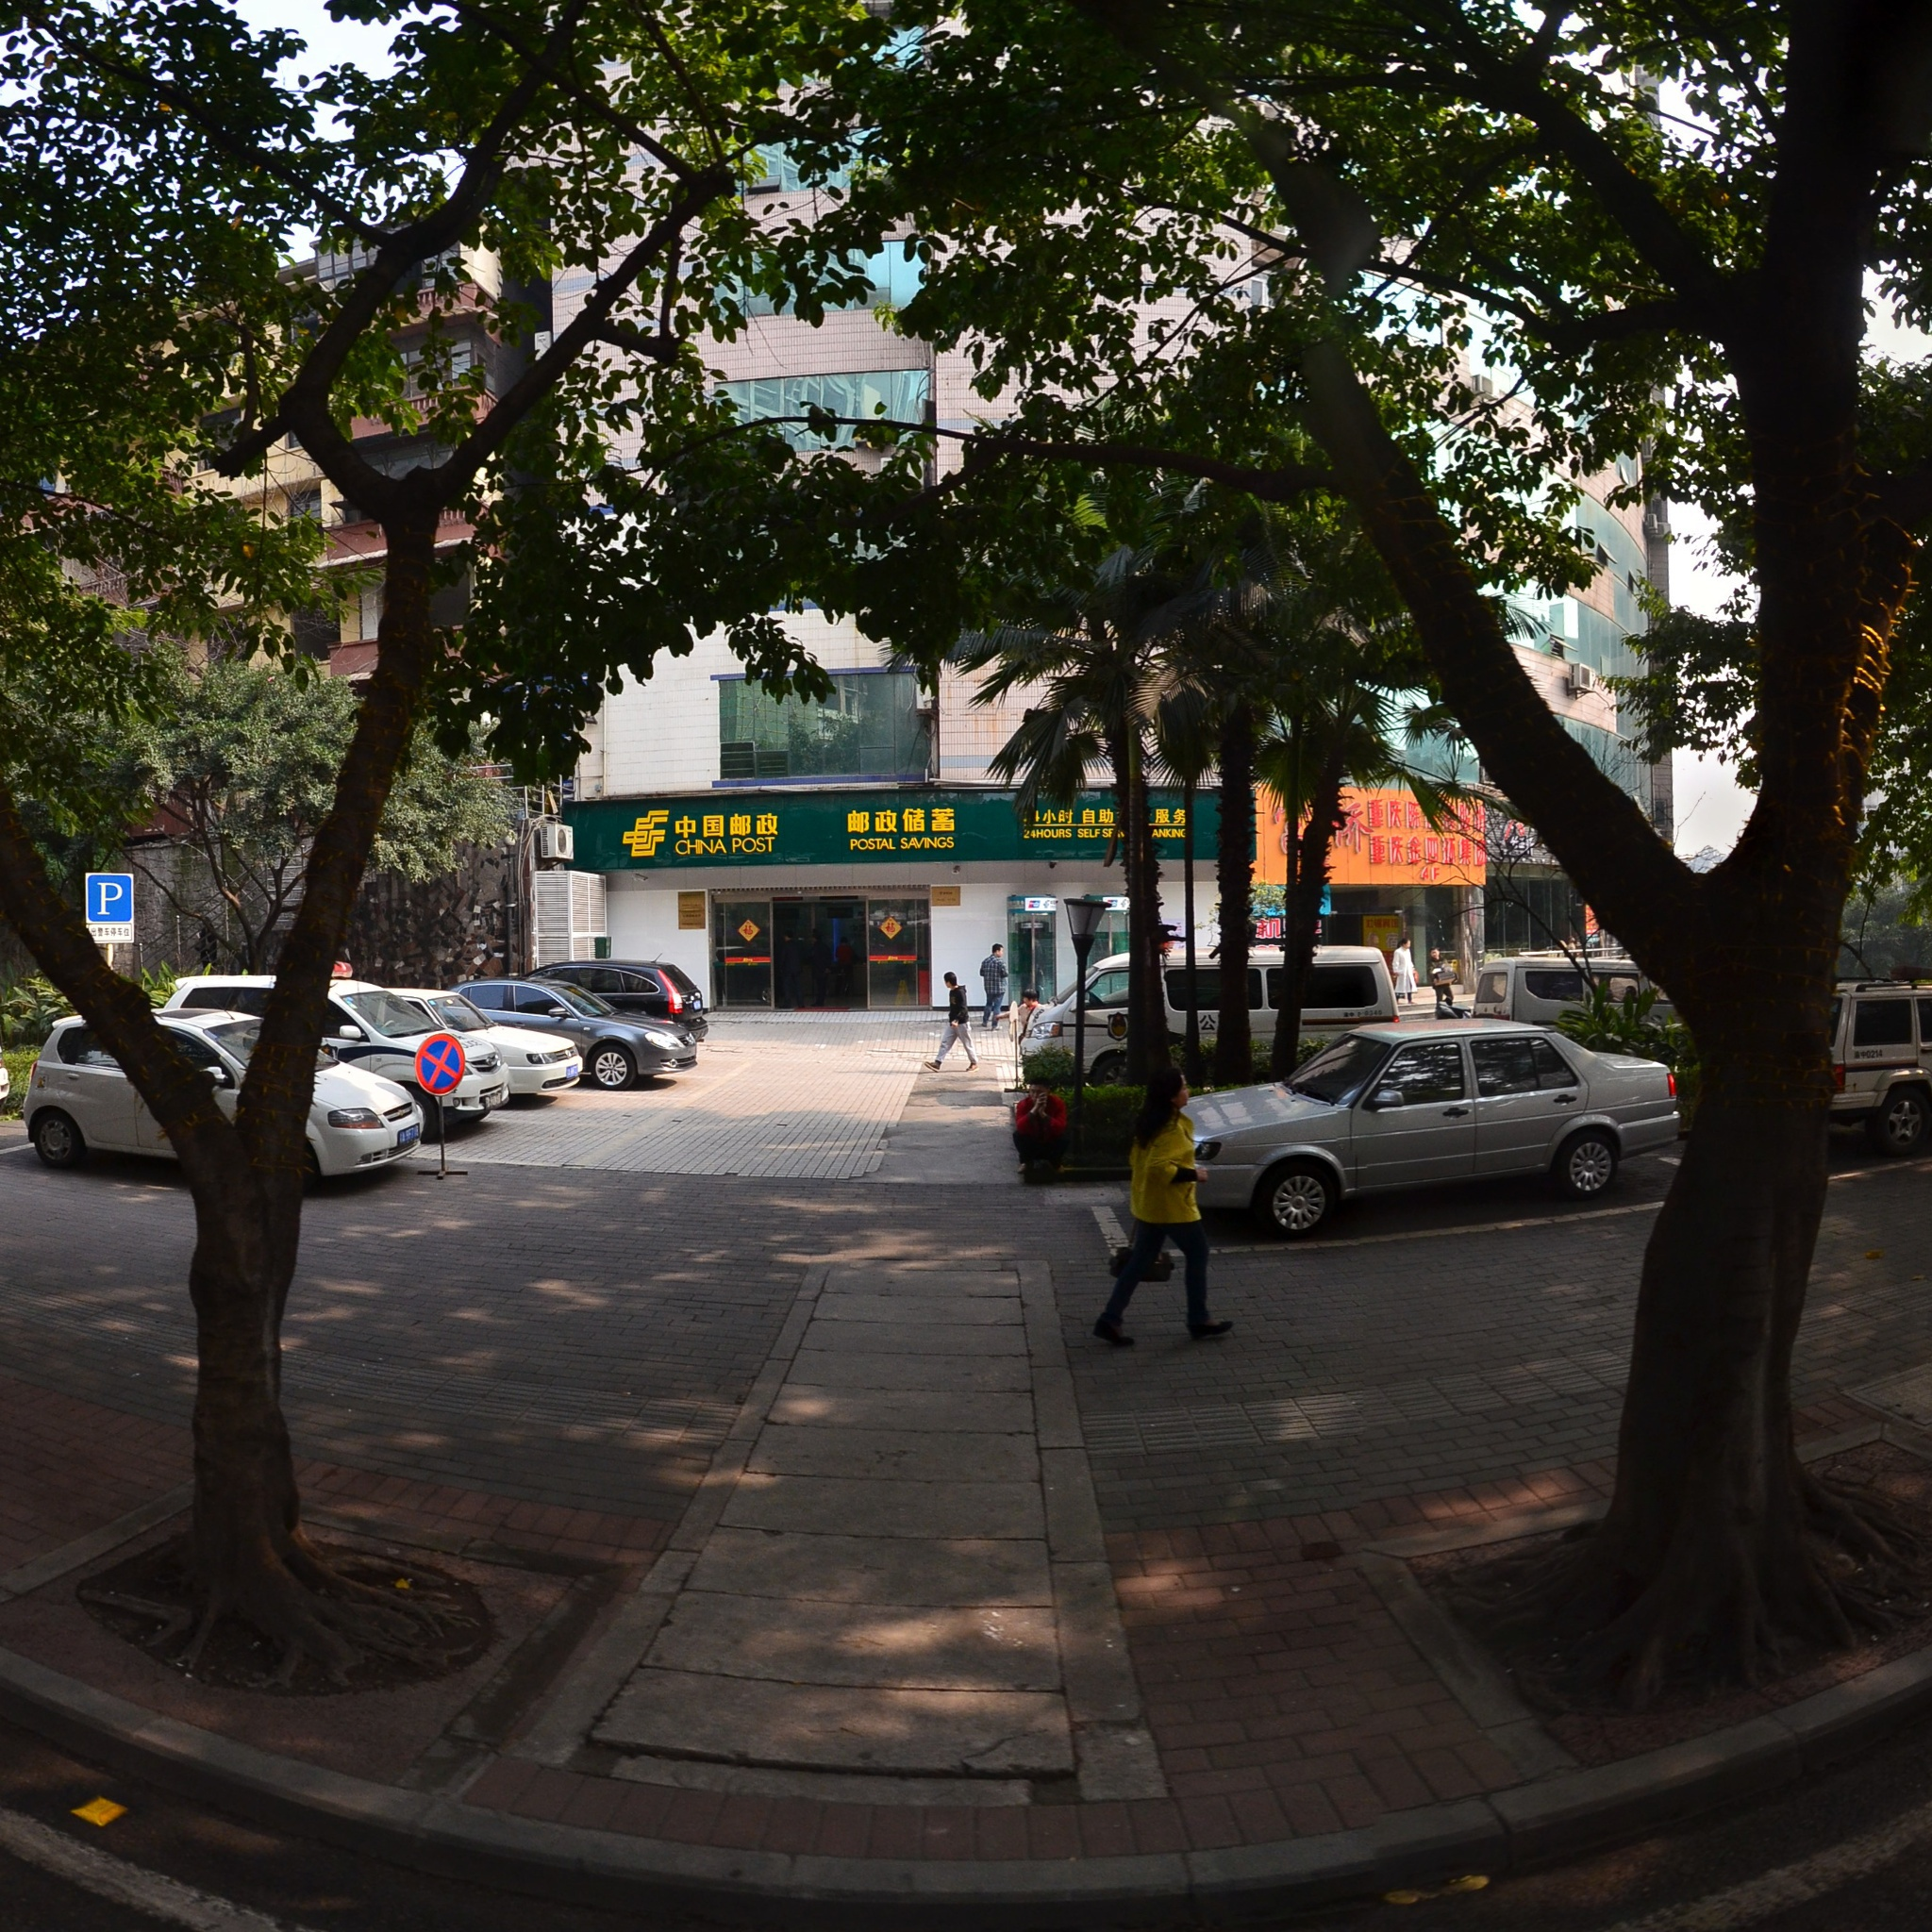pn: (412, 1031, 464, 1095)
